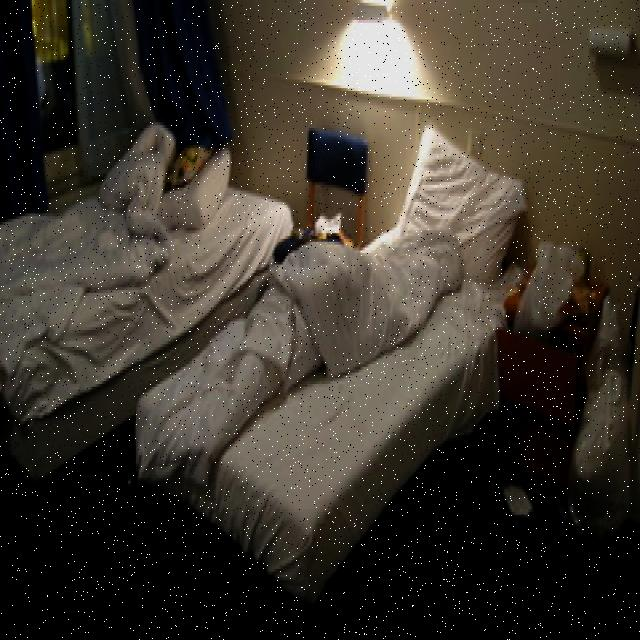bed: (135, 118, 534, 588), (0, 130, 296, 398)
